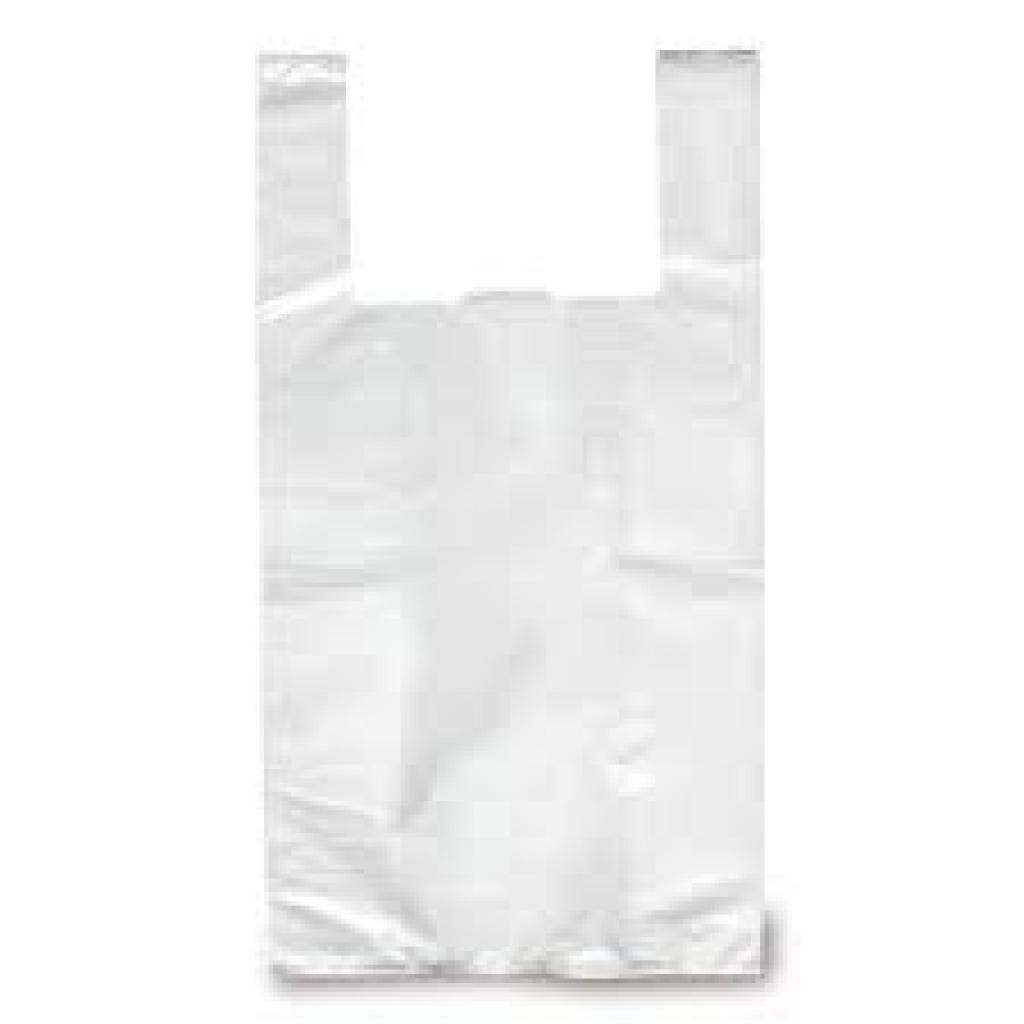plastic: (180, 19, 844, 1000)
